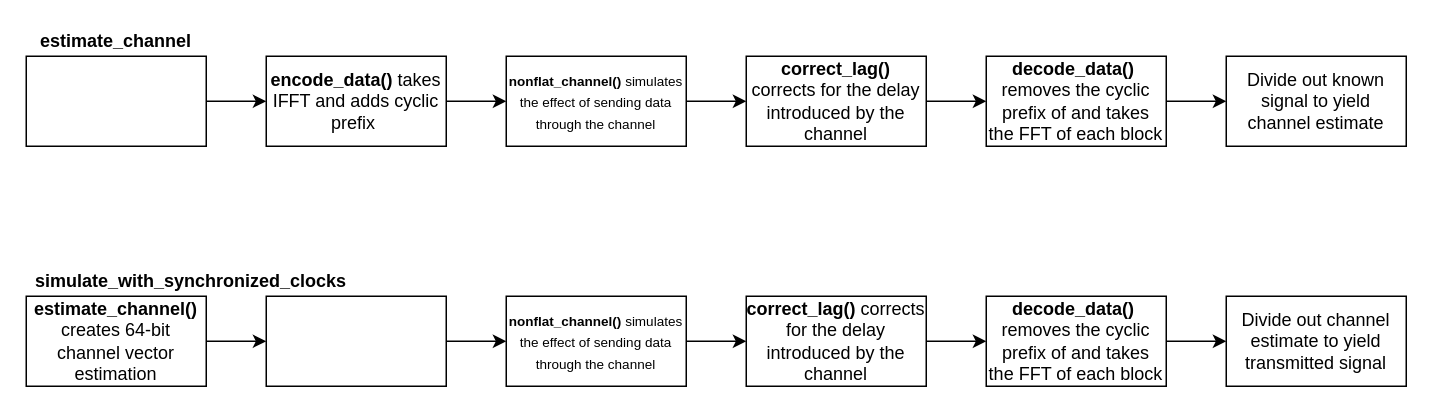
Image size: 1433x413. Some labels were removed from this diagram. The shapes that lost their labels are listed below. From the top down, each one's centre as x and y in pixels, then its label:
the point at 115,100: Create vector of repeated training signal vectors
the point at 355,340: encode_data() takes IFFT of and adds cyclic prefix to each block
